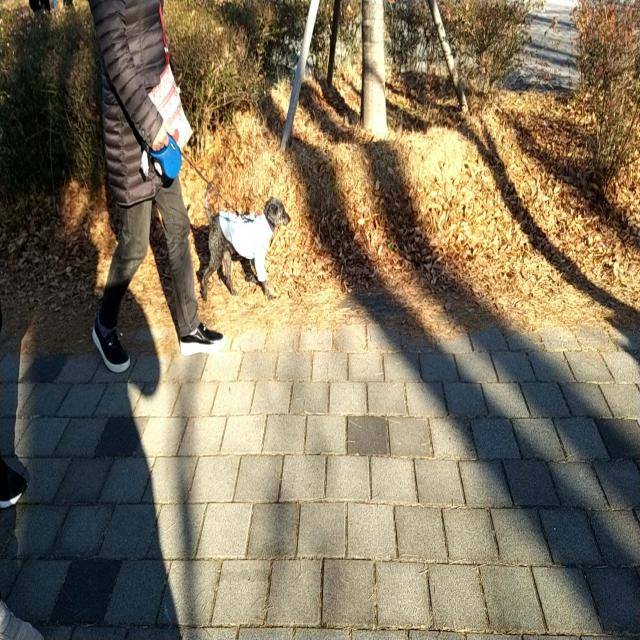Leashed_Dog: (150, 123, 290, 304)
